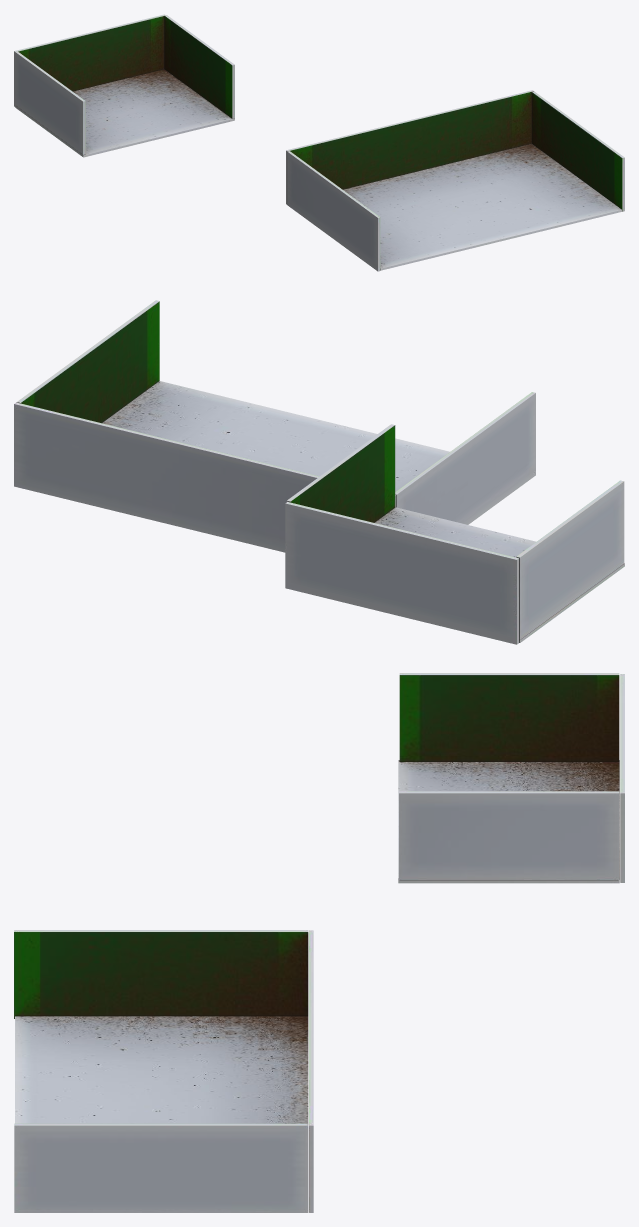
The model's file is ATO5.fbx.
The picture shows the model from 3 angles, top to bottom: view 1: azimuth 30°, elevation 25°; view 2: azimuth 150°, elevation 25°; view 3: azimuth 270°, elevation 25°; orthographic projection. The views are drawn at different scales.
Parts seen in each view (by area): view 1: polySurface8, polySurface5, polySurface3, polySurface1, polySurface7, polySurface6, polySurface2, polySurface4; view 2: polySurface5, polySurface1, polySurface8, polySurface7, polySurface4, polySurface6, polySurface2, polySurface3; view 3: polySurface8, polySurface6, polySurface7, polySurface2, polySurface4, polySurface3, polySurface5, polySurface1.
Part boxes in pixels (x1=…): polySurface8: x1=343, y1=143, x2=621, y2=270; polySurface5: x1=286, y1=90, x2=533, y2=204; polySurface3: x1=15, y1=69, x2=234, y2=157; polySurface1: x1=14, y1=14, x2=165, y2=106; polySurface7: x1=287, y1=151, x2=380, y2=271; polySurface6: x1=532, y1=91, x2=624, y2=211; polySurface2: x1=164, y1=15, x2=234, y2=118; polySurface4: x1=15, y1=51, x2=85, y2=154; polySurface5: x1=14, y1=402, x2=395, y2=552; polySurface1: x1=285, y1=502, x2=518, y2=644; polySurface8: x1=102, y1=381, x2=449, y2=491; polySurface7: x1=395, y1=392, x2=535, y2=524; polySurface4: x1=516, y1=480, x2=624, y2=639; polySurface6: x1=16, y1=300, x2=159, y2=423; polySurface2: x1=286, y1=424, x2=395, y2=522; polySurface3: x1=374, y1=507, x2=624, y2=642; polySurface8: x1=15, y1=1016, x2=308, y2=1123; polySurface6: x1=14, y1=1123, x2=308, y2=1212; polySurface7: x1=14, y1=930, x2=308, y2=1018; polySurface2: x1=399, y1=791, x2=619, y2=880; polySurface4: x1=399, y1=673, x2=619, y2=761; polySurface3: x1=398, y1=760, x2=619, y2=883; polySurface5: x1=309, y1=930, x2=313, y2=1212; polySurface1: x1=620, y1=674, x2=624, y2=882.
Bounding box in the file's own units: 63.47 × 18.07 × 48.88.
1 material, 1 textured.
